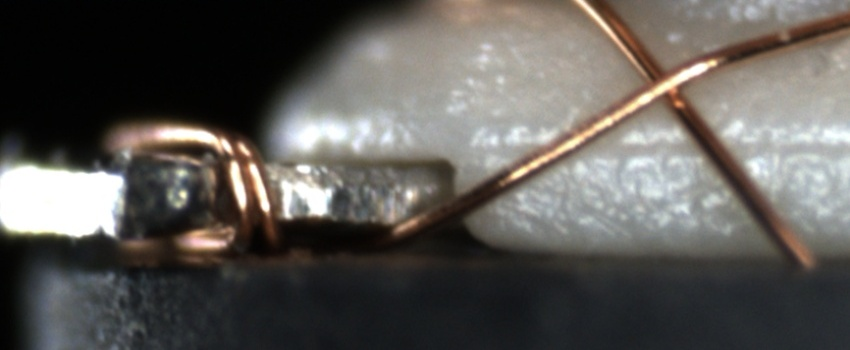CL: (624, 49, 699, 119)
DL: (481, 119, 850, 181)
TE: (102, 112, 303, 253)
